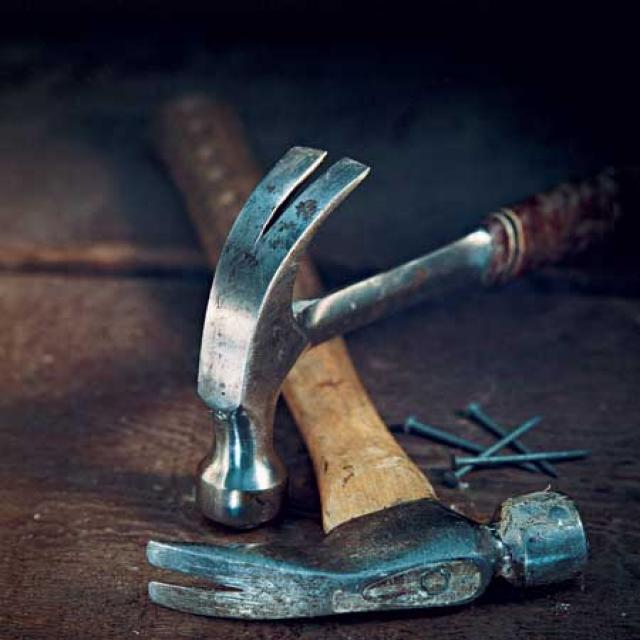hammer: (80, 81, 604, 628), (185, 136, 640, 536)
